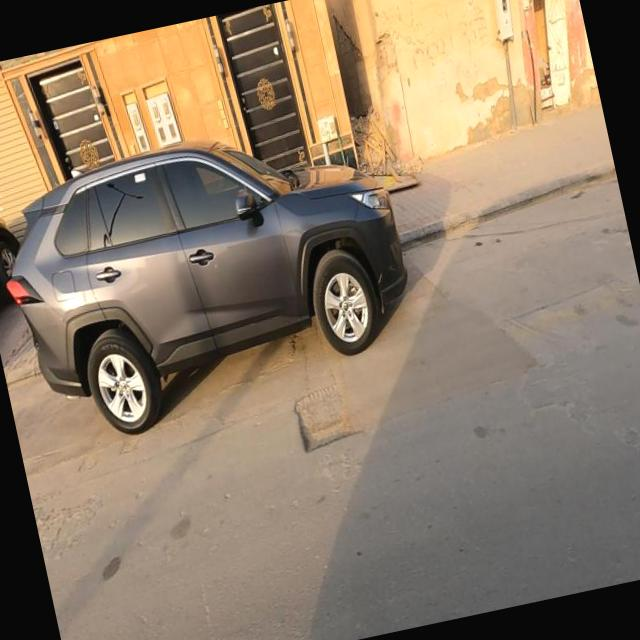debris: (395, 6, 597, 197), (315, 0, 553, 129), (304, 52, 453, 235)
